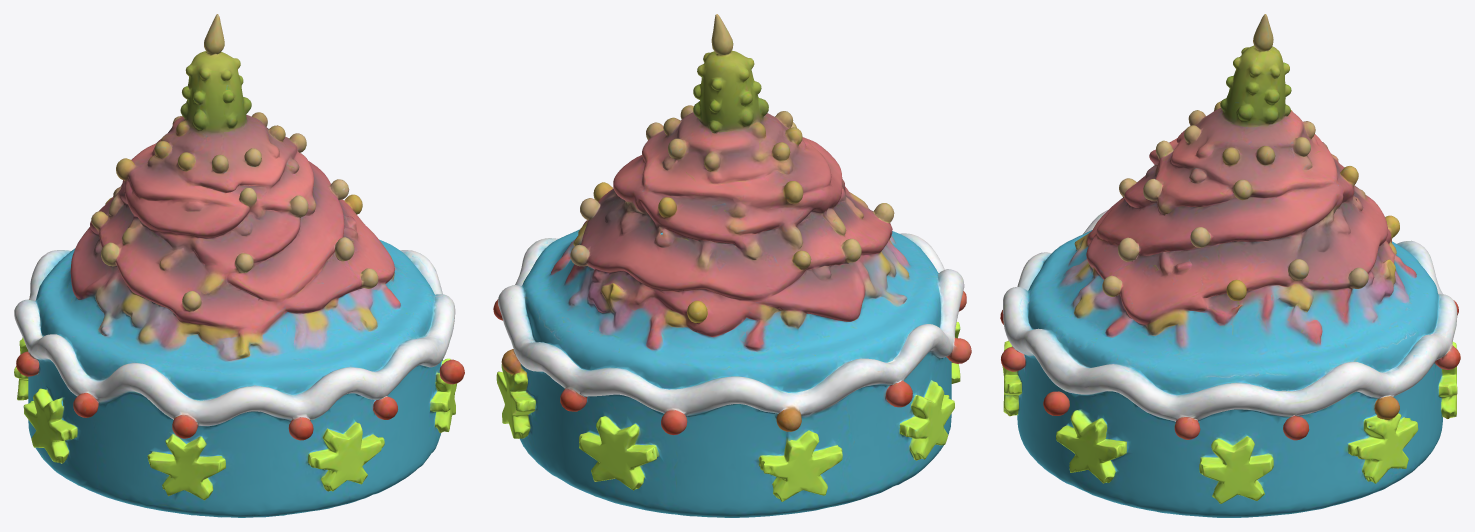
Rendered from cake.glb.
The picture shows the model from 3 angles, left to right: view 1: azimuth 30°, elevation 25°; view 2: azimuth 150°, elevation 25°; view 3: azimuth 270°, elevation 25°; orthographic projection. The views are drawn at different scales.
Visible parts, largest first — view 1: geometry_0; view 2: geometry_0; view 3: geometry_0.
Boxes of the visible parts, x1,y1,x2,y2 form: geometry_0: (14, 14, 464, 517); geometry_0: (493, 14, 971, 517); geometry_0: (1000, 14, 1460, 517).
Size of the model in its own units: 0.9857 by 0.9867 by 0.9848.
1 material, 1 textured.
